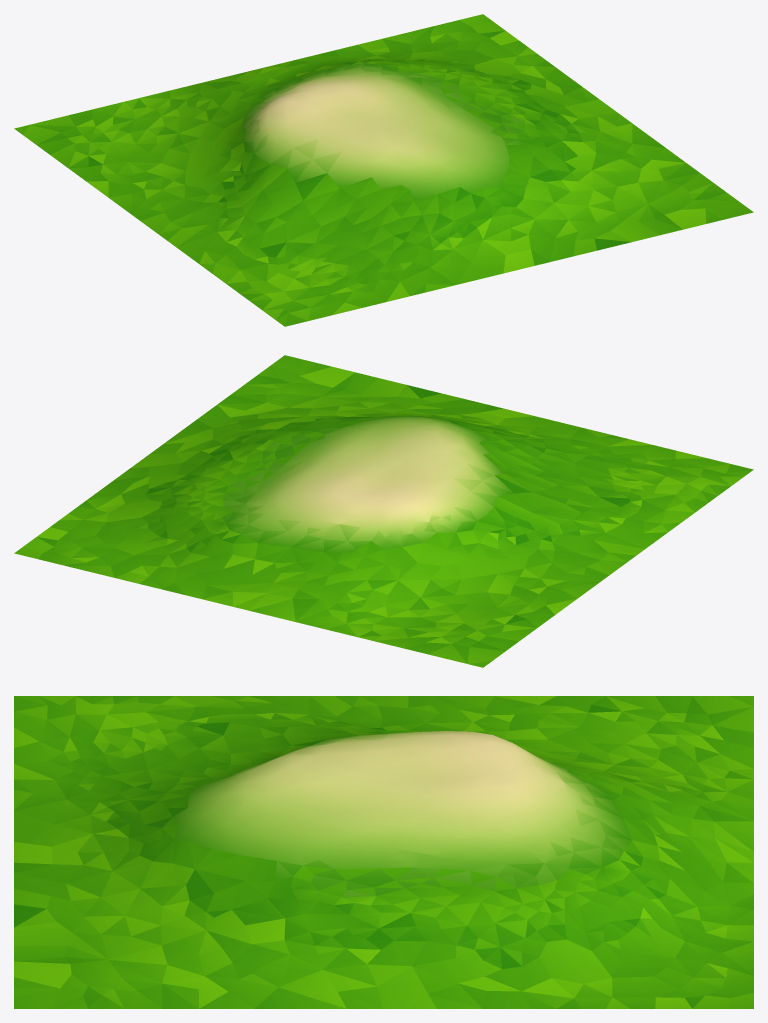
Rendered from GL-Terrain-part-02.fbx.
3 views of the same model, one above another, from view 1: azimuth 30°, elevation 25°; view 2: azimuth 150°, elevation 25°; view 3: azimuth 270°, elevation 25° (orthographic). The views are drawn at different scales.
Parts seen in each view (by area): view 1: GL-Terrain-part-02; view 2: GL-Terrain-part-02; view 3: GL-Terrain-part-02.
Part boxes in pixels (x1=…): GL-Terrain-part-02: x1=14, y1=14, x2=753, y2=326; GL-Terrain-part-02: x1=14, y1=355, x2=753, y2=667; GL-Terrain-part-02: x1=14, y1=696, x2=753, y2=1008.
Bounding box in the file's own units: 18 × 2 × 18.
